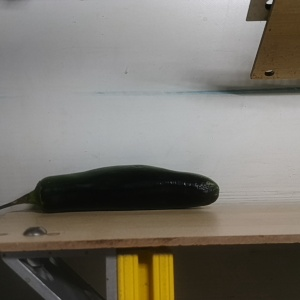Cut Point: (24, 175, 57, 214)
